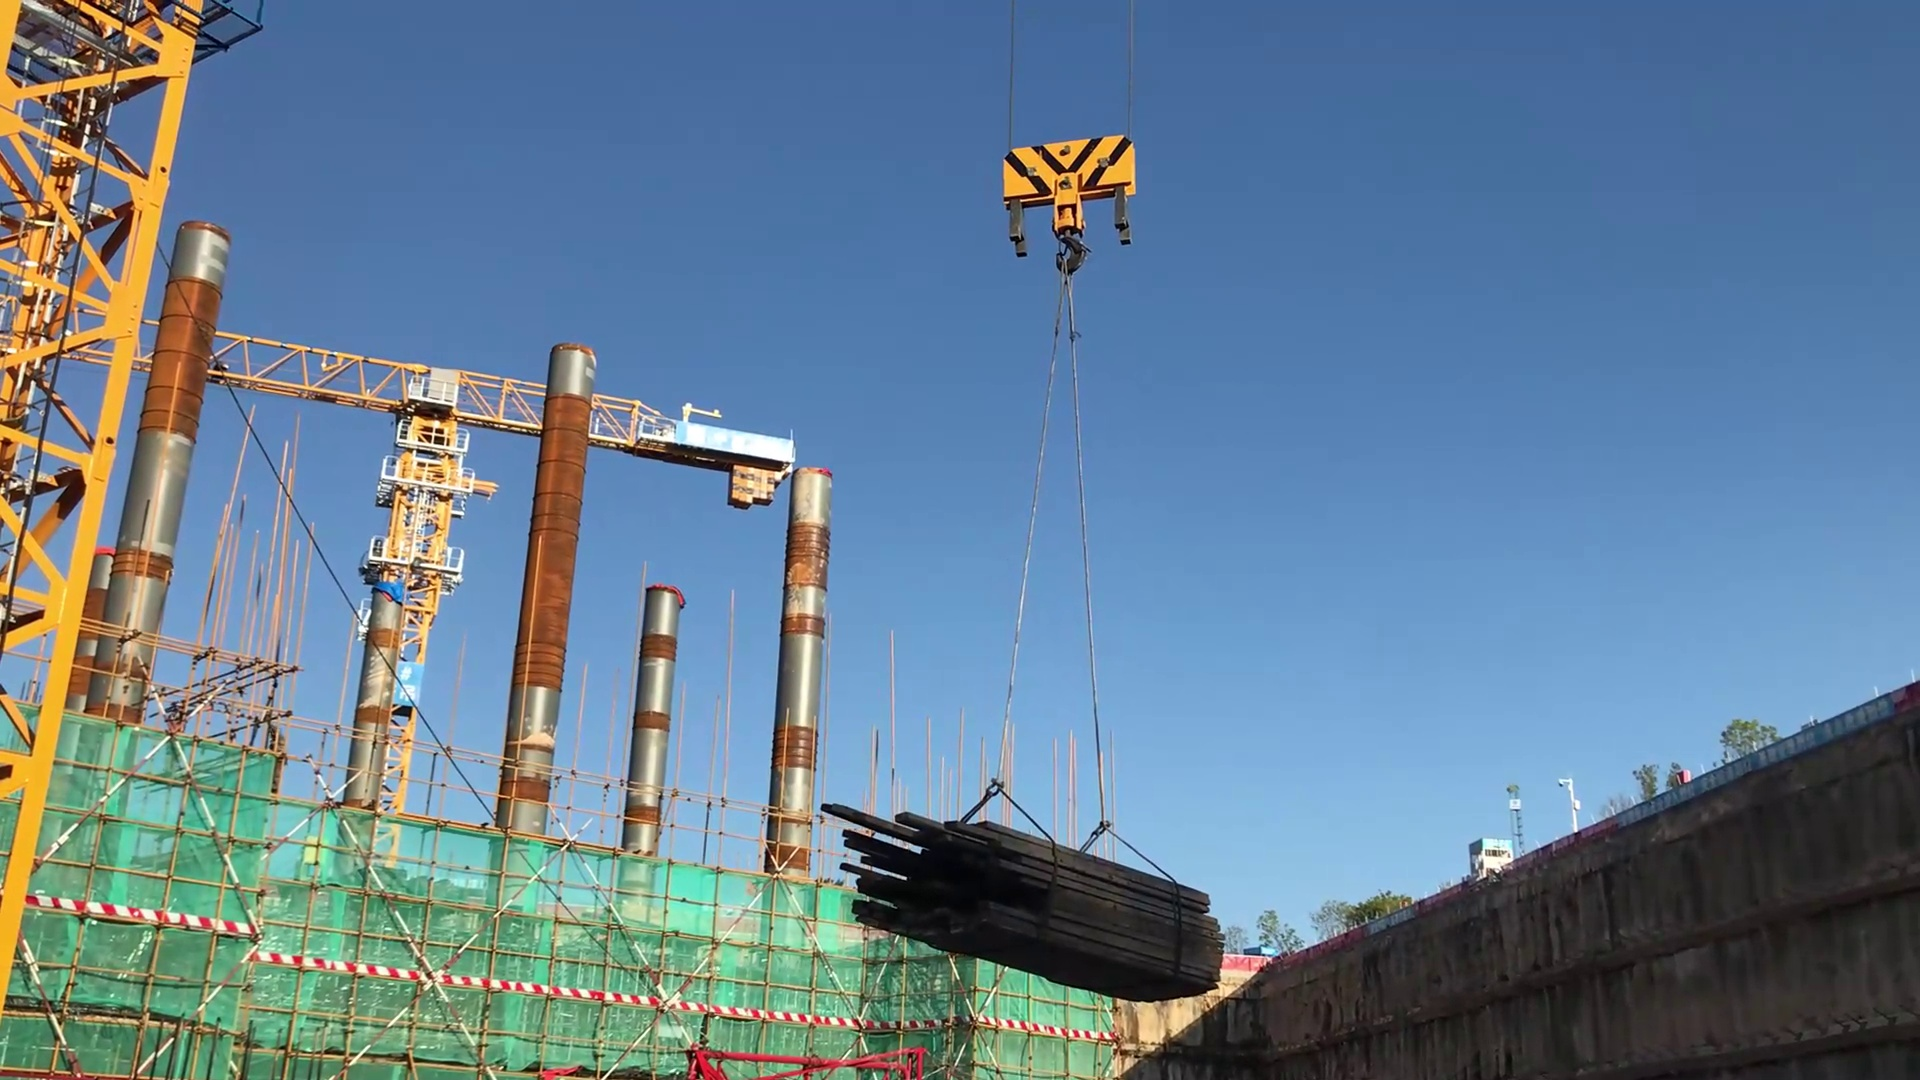hook: (978, 129, 1158, 284)
slogan: (1605, 684, 1908, 824)
wood: (808, 781, 1232, 982)
